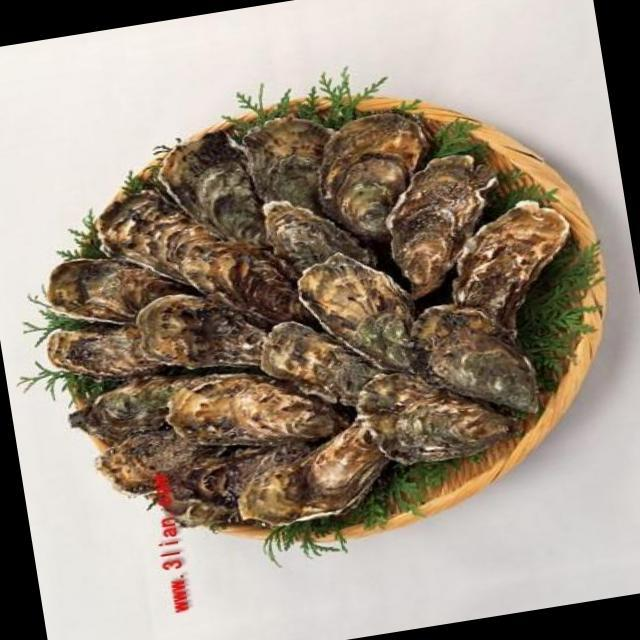Oyster- Indeterminate: (306, 104, 449, 260), (439, 194, 584, 344), (158, 353, 352, 465), (372, 147, 512, 302), (348, 353, 524, 475), (162, 218, 318, 354), (398, 290, 544, 430), (286, 242, 419, 385), (84, 178, 233, 297), (226, 423, 382, 532), (252, 183, 396, 297), (150, 124, 266, 261), (155, 443, 317, 541), (36, 238, 196, 337), (130, 278, 274, 387), (246, 306, 384, 418), (238, 107, 340, 228), (81, 422, 212, 504), (55, 368, 192, 445), (35, 318, 161, 388)
